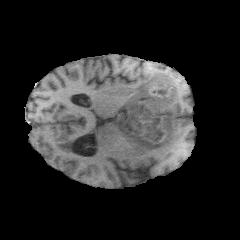glioma: (112, 70, 183, 152)
